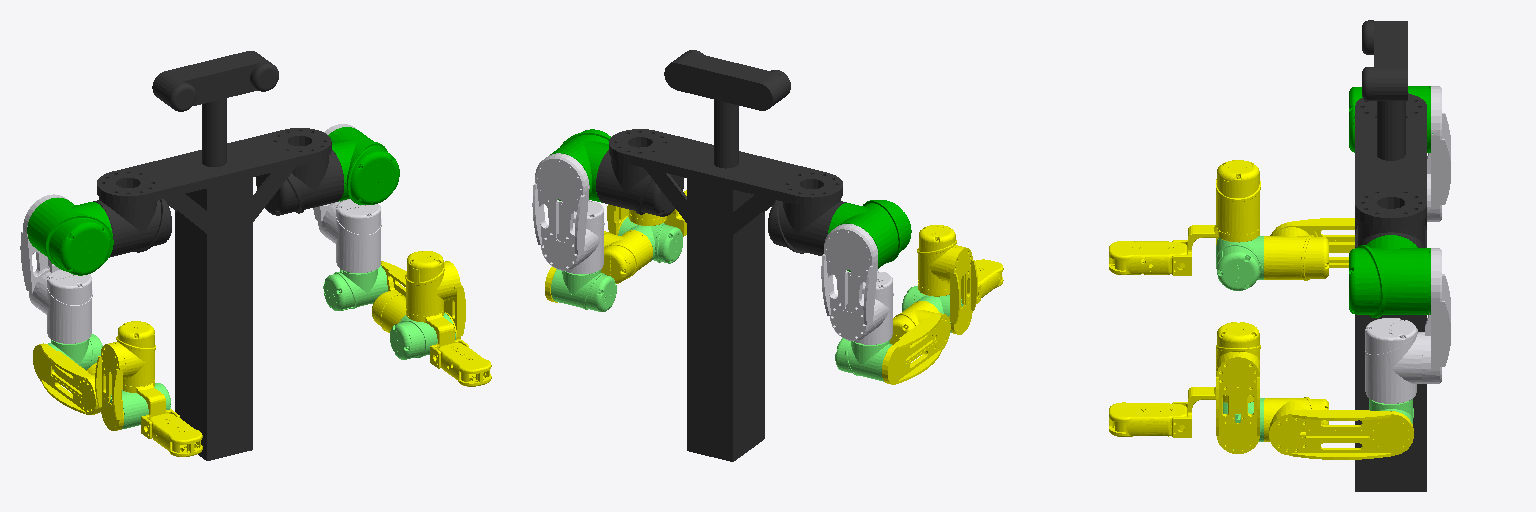
The robot description file, URDF, robot "srs-77dof":
<?xml version="1.0" encoding="utf-8"?>
<!-- This URDF was automatically created by SolidWorks to URDF Exporter! Originally created by [author] ([email redacted]) 
     Commit Version: 1.5.0-0-g9aa0fdb  Build Version: 1.5.7004.21443
     For more information, please see http://wiki.ros.org/sw_urdf_exporter -->
<robot
  name="srs-77dof">
  <link
    name="base_link">
    <inertial>
      <origin
        xyz="-0.00115430510606862 -0.0008201051198145 0.527097936969844"
        rpy="0 0 0" />
      <mass
        value="41.4264697082622" />
      <inertia
        ixx="0.516190746816454"
        ixy="-1.17375890216909E-07"
        ixz="0.000184806317536522"
        iyy="0.692677706883773"
        iyz="1.75796052634053E-05"
        izz="0.294627182450416" />
    </inertial>
    <visual>
      <origin
        xyz="0 0 0"
        rpy="0 0 0" />
      <geometry>
        <mesh
          filename="package://srs-77dof/meshes/base_link.STL" />
      </geometry>
      <material
        name="">
        <color
          rgba="0.250980392156863 0.250980392156863 0.250980392156863 1" />
      </material>
    </visual>
    <collision>
      <origin
        xyz="0 0 0"
        rpy="0 0 0" />
      <geometry>
        <mesh
          filename="package://srs-77dof/meshes/base_link.STL" />
      </geometry>
    </collision>
  </link>
  <link
    name="link-r1">
    <inertial>
      <origin
        xyz="-0.00534973802702698 4.87983111041035E-05 0.00237312099077956"
        rpy="0 0 0" />
      <mass
        value="2.89937170911004" />
      <inertia
        ixx="0.00501628758764933"
        ixy="-8.65660560888977E-06"
        ixz="0.000499998097645102"
        iyy="0.00488885521969421"
        iyz="3.57871393025778E-06"
        izz="0.00734170120426313" />
    </inertial>
    <visual>
      <origin
        xyz="0 0 0"
        rpy="0 0 0" />
      <geometry>
        <mesh
          filename="package://srs-77dof/meshes/link-l1.STL" />
      </geometry>
      <material
        name="">
        <color
          rgba="0 0.752941176470588 0 1" />
      </material>
    </visual>
    <collision>
      <origin
        xyz="0 0 0"
        rpy="0 0 0" />
      <geometry>
        <mesh
          filename="package://srs-77dof/meshes/link-l1.STL" />
      </geometry>
    </collision>
  </link>
  <joint
    name="joint-r1"
    type="revolute">
    <origin
      xyz="-0.3325 0 0.53254"
      rpy="-1.5708 0 -3.1416" />
    <parent
      link="base_link" />
    <child
      link="link-r1" />
    <axis
      xyz="-1 0 0" />
    <limit
      lower="-6.28"
      upper="6.28"
      effort="150"
      velocity="3.15" />
    <safety_controller
      k_velocity="0" />
  </joint>
  <link
    name="link-r2">
    <inertial>
      <origin
        xyz="-0.0180744791124767 6.76109620012522E-07 0.150905771502013"
        rpy="0 0 0" />
      <mass
        value="4.49590564030825" />
      <inertia
        ixx="0.00898207431263908"
        ixy="2.10768301107502E-06"
        ixz="-0.000963599700576106"
        iyy="0.00840631603447999"
        iyz="1.11909599207401E-06"
        izz="0.00601564825314428" />
    </inertial>
    <visual>
      <origin
        xyz="0 0 0"
        rpy="0 0 0" />
      <geometry>
        <mesh
          filename="package://srs-77dof/meshes/link-l2.STL" />
      </geometry>
      <material
        name="">
        <color
          rgba="0.890196078431372 0.890196078431372 0.913725490196078 1" />
      </material>
    </visual>
    <collision>
      <origin
        xyz="0 0 0"
        rpy="0 0 0" />
      <geometry>
        <mesh
          filename="package://srs-77dof/meshes/link-l2.STL" />
      </geometry>
    </collision>
  </link>
  <joint
    name="joint-r2"
    type="revolute">
    <origin
      xyz="0 0 0"
      rpy="-1.5708 -1.5708 0" />
    <parent
      link="link-r1" />
    <child
      link="link-r2" />
    <axis
      xyz="1 0 0" />
    <limit
      lower="-6.28"
      upper="6.28"
      effort="150"
      velocity="3.15" />
    <safety_controller
      k_velocity="0" />
  </joint>
  <link
    name="link-r3">
    <inertial>
      <origin
        xyz="0.259675633888232 -0.000106676988941984 0.00217885119538147"
        rpy="0 0 0" />
      <mass
        value="1.50985052864978" />
      <inertia
        ixx="0.00115086929397749"
        ixy="4.33533567138957E-06"
        ixz="-6.94920217562198E-05"
        iyy="0.00116566110978056"
        iyz="7.97846565209425E-07"
        izz="0.00168084898344929" />
    </inertial>
    <visual>
      <origin
        xyz="0 0 0"
        rpy="0 0 0" />
      <geometry>
        <mesh
          filename="package://srs-77dof/meshes/link-l3.STL" />
      </geometry>
      <material
        name="">
        <color
          rgba="0.501960784313725 1 0.501960784313725 1" />
      </material>
    </visual>
    <collision>
      <origin
        xyz="0 0 0"
        rpy="0 0 0" />
      <geometry>
        <mesh
          filename="package://srs-77dof/meshes/link-l3.STL" />
      </geometry>
    </collision>
  </link>
  <joint
    name="joint-r3"
    type="revolute">
    <origin
      xyz="0 0 0"
      rpy="-1.5708 -1.5708 0" />
    <parent
      link="link-r2" />
    <child
      link="link-r3" />
    <axis
      xyz="1 0 0" />
    <limit
      lower="-6.28"
      upper="6.28"
      effort="150"
      velocity="3.15" />
    <safety_controller
      k_velocity="0" />
  </joint>
  <link
    name="link-r4">
    <inertial>
      <origin
        xyz="8.95972747452234E-05 0.154540593767959 0.0186572319008282"
        rpy="0 0 0" />
      <mass
        value="2.0375685441998" />
      <inertia
        ixx="0.0035086949006757"
        ixy="-1.27726380733596E-07"
        ixz="4.91691735984302E-06"
        iyy="0.00209566567303361"
        iyz="0.000129132028633286"
        izz="0.00385581711303881" />
    </inertial>
    <visual>
      <origin
        xyz="0 0 0"
        rpy="0 0 0" />
      <geometry>
        <mesh
          filename="package://srs-77dof/meshes/link-l4.STL" />
      </geometry>
      <material
        name="">
        <color
          rgba="1 1 0 1" />
      </material>
    </visual>
    <collision>
      <origin
        xyz="0 0 0"
        rpy="0 0 0" />
      <geometry>
        <mesh
          filename="package://srs-77dof/meshes/link-l4.STL" />
      </geometry>
    </collision>
  </link>
  <joint
    name="joint-r4"
    type="revolute">
    <origin
      xyz="0.2651 0 0"
      rpy="0 0 0" />
    <parent
      link="link-r3" />
    <child
      link="link-r4" />
    <axis
      xyz="0 0 1" />
    <limit
      lower="-6.28"
      upper="6.28"
      effort="150"
      velocity="3.15" />
    <safety_controller
      k_velocity="0" />
  </joint>
  <link
    name="link-r5">
    <inertial>
      <origin
        xyz="6.66769830667824E-05 -0.00217885119119121 -0.00542436610779912"
        rpy="0 0 0" />
      <mass
        value="1.50985052900885" />
      <inertia
        ixx="0.00116566107703464"
        ixy="7.97721865939706E-07"
        ixz="-4.33544255100565E-06"
        iyy="0.00168084891490913"
        iyz="6.94920361841204E-05"
        izz="0.00115086918828793" />
    </inertial>
    <visual>
      <origin
        xyz="0 0 0"
        rpy="0 0 0" />
      <geometry>
        <mesh
          filename="package://srs-77dof/meshes/link-l5.STL" />
      </geometry>
      <material
        name="">
        <color
          rgba="0.501960784313725 1 0.501960784313725 1" />
      </material>
    </visual>
    <collision>
      <origin
        xyz="0 0 0"
        rpy="0 0 0" />
      <geometry>
        <mesh
          filename="package://srs-77dof/meshes/link-l5.STL" />
      </geometry>
    </collision>
  </link>
  <joint
    name="joint-r5"
    type="revolute">
    <origin
      xyz="0 0.2653 0"
      rpy="-1.5708 0 0" />
    <parent
      link="link-r4" />
    <child
      link="link-r5" />
    <axis
      xyz="0 0 1" />
    <limit
      lower="-6.28"
      upper="6.28"
      effort="150"
      velocity="3.15" />
    <safety_controller
      k_velocity="0" />
  </joint>
  <link
    name="link-r6">
    <inertial>
      <origin
        xyz="-7.6501517041444E-05 0.102022290812947 0.0130540857764574"
        rpy="0 0 0" />
      <mass
        value="1.77721693197758" />
      <inertia
        ixx="0.00180718050523062"
        ixy="-1.26397649582924E-06"
        ixz="-4.38374372500402E-06"
        iyy="0.00186256025614885"
        iyz="-3.94961251824988E-05"
        izz="0.00195321821545571" />
    </inertial>
    <visual>
      <origin
        xyz="0 0 0"
        rpy="0 0 0" />
      <geometry>
        <mesh
          filename="package://srs-77dof/meshes/link-l6.STL" />
      </geometry>
      <material
        name="">
        <color
          rgba="1 1 0 1" />
      </material>
    </visual>
    <collision>
      <origin
        xyz="0 0 0"
        rpy="0 0 0" />
      <geometry>
        <mesh
          filename="package://srs-77dof/meshes/link-l6.STL" />
      </geometry>
    </collision>
  </link>
  <joint
    name="joint-r6"
    type="revolute">
    <origin
      xyz="0 0 0"
      rpy="1.5708 -1.5708 0" />
    <parent
      link="link-r5" />
    <child
      link="link-r6" />
    <axis
      xyz="0 0 1" />
    <limit
      lower="-6.28"
      upper="6.28"
      effort="150"
      velocity="3.15" />
    <safety_controller
      k_velocity="0" />
  </joint>
  <link
    name="link-r7">
    <inertial>
      <origin
        xyz="0.0853754957393848 -0.000179584046905934 -0.0214932787894448"
        rpy="0 0 0" />
      <mass
        value="0.30505900233751" />
      <inertia
        ixx="0.000275373809767483"
        ixy="-7.50029487418594E-07"
        ixz="-0.000160582257495832"
        iyy="0.00065924510271604"
        iyz="-2.48211323972738E-07"
        izz="0.000644204287144647" />
    </inertial>
    <visual>
      <origin
        xyz="0 0 0"
        rpy="0 0 0" />
      <geometry>
        <mesh
          filename="package://srs-77dof/meshes/link-l7.STL" />
      </geometry>
      <material
        name="">
        <color
          rgba="1 1 0 1" />
      </material>
    </visual>
    <collision>
      <origin
        xyz="0 0 0"
        rpy="0 0 0" />
      <geometry>
        <mesh
          filename="package://srs-77dof/meshes/link-l7.STL" />
      </geometry>
    </collision>
  </link>
  <joint
    name="joint-r7"
    type="revolute">
    <origin
      xyz="0 0 0"
      rpy="1.5708 0 0" />
    <parent
      link="link-r6" />
    <child
      link="link-r7" />
    <axis
      xyz="0 0 1" />
    <limit
      lower="-6.28"
      upper="6.28"
      effort="150"
      velocity="3.15" />
    <safety_controller
      k_velocity="0" />
  </joint>

<link name="right_tcp"/>
 <joint
    name="fix_tcp_r"
    type="fixed">
    <origin
      xyz="0.2 0 0"
      rpy="0 3.14 -1.5708" />
    <parent
      link="link-r7" />
    <child
      link="right_tcp" />
  </joint>



  <link
    name="link-l1">
    <inertial>
      <origin
        xyz="-4.7875E-05 0.0023733 -0.0053507"
        rpy="0 0 0" />
      <mass
        value="2.8994" />
      <inertia
        ixx="0.0048887"
        ixy="-3.6961E-06"
        ixz="8.923E-06"
        iyy="0.0073417"
        iyz="0.00049999"
        izz="0.0050165" />
    </inertial>
    <visual>
      <origin
        xyz="0 0 0"
        rpy="0 0 0" />
      <geometry>
        <mesh
          filename="package://srs-77dof/meshes/link-r1.STL" />
      </geometry>
      <material
        name="">
        <color
          rgba="0 0.75294 0 1" />
      </material>
    </visual>
    <collision>
      <origin
        xyz="0 0 0"
        rpy="0 0 0" />
      <geometry>
        <mesh
          filename="package://srs-77dof/meshes/link-r1.STL" />
      </geometry>
    </collision>
  </link>
  <joint
    name="joint-l1"
    type="revolute">
    <origin
      xyz="0.3325 0 0.53254"
      rpy="3.14 -1.5708 0" />
    <parent
      link="base_link" />
    <child
      link="link-l1" />
    <axis
      xyz="0 0 -1" />
    <limit
      lower="-6.28"
      upper="6.28"
      effort="150"
      velocity="3.15" />
    <safety_controller
      k_velocity="0" />
  </joint>
  <link
    name="link-l2">
    <inertial>
      <origin
        xyz="7.4857E-07 -0.15091 -0.018075"
        rpy="0 0 0" />
      <mass
        value="4.4959" />
      <inertia
        ixx="0.0084063"
        ixy="-1.0925E-06"
        ixz="2.0948E-06"
        iyy="0.0060157"
        iyz="0.0009636"
        izz="0.0089821" />
    </inertial>
    <visual>
      <origin
        xyz="0 0 0"
        rpy="0 0 0" />
      <geometry>
        <mesh
          filename="package://srs-77dof/meshes/link-r2.STL" />
      </geometry>
      <material
        name="">
        <color
          rgba="0.8902 0.8902 0.91373 1" />
      </material>
    </visual>
    <collision>
      <origin
        xyz="0 0 0"
        rpy="0 0 0" />
      <geometry>
        <mesh
          filename="package://srs-77dof/meshes/link-r2.STL" />
      </geometry>
    </collision>
  </link>
  <joint
    name="joint-l2"
    type="revolute">
    <origin
      xyz="0 0 0"
      rpy="-1.5708 -1.5708 0" />
    <parent
      link="link-l1" />
    <child
      link="link-l2" />
    <axis
      xyz="0 0 1" />
    <limit
      lower="-6.28"
      upper="6.28"
      effort="150"
      velocity="3.15" />
    <safety_controller
      k_velocity="0" />
  </joint>
  <link
    name="link-l3">
    <inertial>
      <origin
        xyz="0.000108887236810712 0.00217841355489418 0.259675970068715"
        rpy="0 0 0" />
      <mass
        value="1.50987241060898" />
      <inertia
        ixx="0.0011656428813433"
        ixy="-7.92492089633067E-07"
        ixz="-4.28338820870899E-06"
        iyy="0.00168084394355416"
        iyz="-6.94864472539866E-05"
        izz="0.00115087964808608" />
    </inertial>
    <visual>
      <origin
        xyz="0 0 0"
        rpy="0 0 0" />
      <geometry>
        <mesh
          filename="package://srs-77dof/meshes/link-r3.STL" />
      </geometry>
      <material
        name="">
        <color
          rgba="0.501960784313725 1 0.501960784313725 1" />
      </material>
    </visual>
    <collision>
      <origin
        xyz="0 0 0"
        rpy="0 0 0" />
      <geometry>
        <mesh
          filename="package://srs-77dof/meshes/link-r3.STL" />
      </geometry>
    </collision>
  </link>
  <joint
    name="joint-l3"
    type="revolute">
    <origin
      xyz="0 0 0"
      rpy="1.5708 1.5708 0" />
    <parent
      link="link-l2" />
    <child
      link="link-l3" />
    <axis
      xyz="0 0 1" />
    <limit
      lower="-6.28"
      upper="6.28"
      effort="150"
      velocity="3.15" />
    <safety_controller
      k_velocity="0" />
  </joint>
  <link
    name="link-l4">
    <inertial>
      <origin
        xyz="-1.0925E-05 -0.15454 -0.018657"
        rpy="0 0 0" />
      <mass
        value="2.0376" />
      <inertia
        ixx="0.0035087"
        ixy="-1.4626E-06"
        ixz="3.7018E-06"
        iyy="0.0020957"
        iyz="0.00012913"
        izz="0.0038558" />
    </inertial>
    <visual>
      <origin
        xyz="0 0 0"
        rpy="0 0 0" />
      <geometry>
        <mesh
          filename="package://srs-77dof/meshes/link-r4.STL" />
      </geometry>
      <material
        name="">
        <color
          rgba="1 1 0 1" />
      </material>
    </visual>
    <collision>
      <origin
        xyz="0 0 0"
        rpy="0 0 0" />
      <geometry>
        <mesh
          filename="package://srs-77dof/meshes/link-r4.STL" />
      </geometry>
    </collision>
  </link>
  <joint
    name="joint-l4"
    type="revolute">
    <origin
      xyz="4E-05 0 0.2651"
      rpy="1.5708 1.5708 0" />
    <parent
      link="link-l3" />
    <child
      link="link-l4" />
    <axis
      xyz="0 0 -1" />
    <limit
      lower="-6.28"
      upper="6.28"
      effort="150"
      velocity="3.15" />
    <safety_controller
      k_velocity="0" />
  </joint>
  <link
    name="link-l5">
    <inertial>
      <origin
        xyz="-6.8887E-05 -0.0021784 -0.005424"
        rpy="0 0 0" />
      <mass
        value="1.5099" />
      <inertia
        ixx="0.0011656"
        ixy="-7.9249E-07"
        ixz="4.2834E-06"
        iyy="0.0016808"
        iyz="6.9486E-05"
        izz="0.0011509" />
    </inertial>
    <visual>
      <origin
        xyz="0 0 0"
        rpy="0 0 0" />
      <geometry>
        <mesh
          filename="package://srs-77dof/meshes/link-r5.STL" />
      </geometry>
      <material
        name="">
        <color
          rgba="0.50196 1 0.50196 1" />
      </material>
    </visual>
    <collision>
      <origin
        xyz="0 0 0"
        rpy="0 0 0" />
      <geometry>
        <mesh
          filename="package://srs-77dof/meshes/link-r5.STL" />
      </geometry>
    </collision>
  </link>
  <joint
    name="joint-l5"
    type="revolute">
    <origin
      xyz="0 -0.2653 0"
      rpy="1.5708 0 0" />
    <parent
      link="link-l4" />
    <child
      link="link-l5" />
    <axis
      xyz="0 0 1" />
    <limit
      lower="-6.28"
      upper="6.28"
      effort="150"
      velocity="3.15" />
    <safety_controller
      k_velocity="0" />
  </joint>
  <link
    name="link-l6">
    <inertial>
      <origin
        xyz="3.8669E-05 0.10202 0.013054"
        rpy="0 0 0" />
      <mass
        value="1.7772" />
      <inertia
        ixx="0.0018072"
        ixy="3.2661E-07"
        ixz="4.2347E-06"
        iyy="0.0018626"
        iyz="-3.9491E-05"
        izz="0.0019532" />
    </inertial>
    <visual>
      <origin
        xyz="0 0 0"
        rpy="0 0 0" />
      <geometry>
        <mesh
          filename="package://srs-77dof/meshes/link-r6.STL" />
      </geometry>
      <material
        name="">
        <color
          rgba="1 1 0 1" />
      </material>
    </visual>
    <collision>
      <origin
        xyz="0 0 0"
        rpy="0 0 0" />
      <geometry>
        <mesh
          filename="package://srs-77dof/meshes/link-r6.STL" />
      </geometry>
    </collision>
  </link>
  <joint
    name="joint-l6"
    type="revolute">
    <origin
      xyz="0 0 0"
      rpy="1.5708 1.5708 0" />
    <parent
      link="link-l5" />
    <child
      link="link-l6" />
    <axis
      xyz="0 0 1" />
    <limit
      lower="-6.28"
      upper="6.28"
      effort="150"
      velocity="3.15" />
    <safety_controller
      k_velocity="0" />
  </joint>
  <link
    name="link-l7">
    <inertial>
      <origin
        xyz="0.00012027 -0.085375 -0.021494"
        rpy="0 0 0" />
      <mass
        value="0.30506" />
      <inertia
        ixx="0.00065925"
        ixy="2.8632E-07"
        ixz="-1.6632E-07"
        iyy="0.00027538"
        iyz="0.00016058"
        izz="0.0006442" />
    </inertial>
    <visual>
      <origin
        xyz="0 0 0"
        rpy="0 0 0" />
      <geometry>
        <mesh
          filename="package://srs-77dof/meshes/link-r7.STL" />
      </geometry>
      <material
        name="">
        <color
          rgba="1 1 0 1" />
      </material>
    </visual>
    <collision>
      <origin
        xyz="0 0 0"
        rpy="0 0 0" />
      <geometry>
        <mesh
          filename="package://srs-77dof/meshes/link-r7.STL" />
      </geometry>
    </collision>
  </link>
  <joint
    name="joint-l7"
    type="revolute">
    <origin
      xyz="0 0 0"
      rpy="1.5708 1.5708 0" />
    <parent
      link="link-l6" />
    <child
      link="link-l7" />
    <axis
      xyz="0 0 1" />
    <limit
      lower="-6.28"
      upper="6.28"
      effort="150"
      velocity="3.15" />
    <safety_controller
      k_velocity="0" />
  </joint>

<link name="left_tcp"/>
 <joint
    name="fix_tcp_l"
    type="fixed">
    <origin
      xyz="0 -0.2 0"
      rpy="3.14 0 0" />
    <parent
      link="link-l7" />
    <child
      link="left_tcp" />
  </joint>
</robot>

--- What the picture shows (computed from the rendered views, not written in the file) ---
Views: 3 orthographic renders of the robot side by side, from view 1: azimuth 30°, elevation 25°; view 2: azimuth 150°, elevation 25°; view 3: azimuth 270°, elevation 25°.
Robot: srs-77dof — 17 links, 16 joints (14 revolute, 2 fixed); root link base_link; default pose: every joint at zero.
Visible links, largest first — view 1: base_link, link-r1, link-r2, link-r6, link-l2, link-l1, link-l6, link-r4, link-l7, link-r7, link-l3, link-l4 (+3 smaller); view 2: base_link, link-r2, link-l2, link-r6, link-r4, link-r1, link-l4, link-l3, link-l1, link-r3, link-l5, link-r7 (+3 smaller); view 3: base_link, link-l2, link-l4, link-l1, link-l6, link-r4, link-r7, link-l7, link-r6, link-r2, link-r5, link-r1.
Boxes of the visible links, box(x1,y1,x2,y2) form: base_link: box(93, 51, 345, 460); link-r1: box(27, 198, 113, 275); link-r2: box(20, 194, 92, 343); link-r6: box(95, 321, 155, 430); link-l2: box(313, 124, 381, 272); link-l1: box(328, 127, 399, 204); link-l6: box(405, 251, 465, 339); link-r4: box(33, 343, 100, 414); link-l7: box(406, 309, 491, 386); link-r7: box(123, 380, 202, 456); link-l3: box(323, 265, 387, 310); link-l4: box(372, 261, 406, 332); base_link: box(596, 50, 846, 461); link-r2: box(821, 224, 893, 344); link-l2: box(532, 153, 604, 273); link-r6: box(917, 225, 977, 334); link-r4: box(882, 301, 950, 384); link-r1: box(828, 200, 911, 271); link-l4: box(545, 230, 652, 302); link-l3: box(551, 269, 616, 311); link-l1: box(550, 129, 610, 202); link-r3: box(835, 338, 891, 381); link-l5: box(618, 217, 682, 263); link-r7: box(918, 259, 1003, 303); base_link: box(1355, 20, 1426, 491); link-l2: box(1365, 248, 1450, 403); link-l4: box(1264, 397, 1413, 459); link-l1: box(1349, 235, 1430, 317); link-l6: box(1216, 322, 1260, 453); link-r4: box(1262, 218, 1354, 280); link-r7: box(1109, 225, 1259, 275); link-l7: box(1109, 387, 1253, 437); link-r6: box(1216, 160, 1260, 244); link-r2: box(1427, 86, 1450, 221); link-r5: box(1216, 236, 1263, 290); link-r1: box(1349, 86, 1432, 152).
Bounding box of the posed robot: 0.8231 × 0.5949 × 0.83 m (x, y, z).
Meshes: 15 distinct files referenced, 15 mesh visuals loaded (15 binary STL).